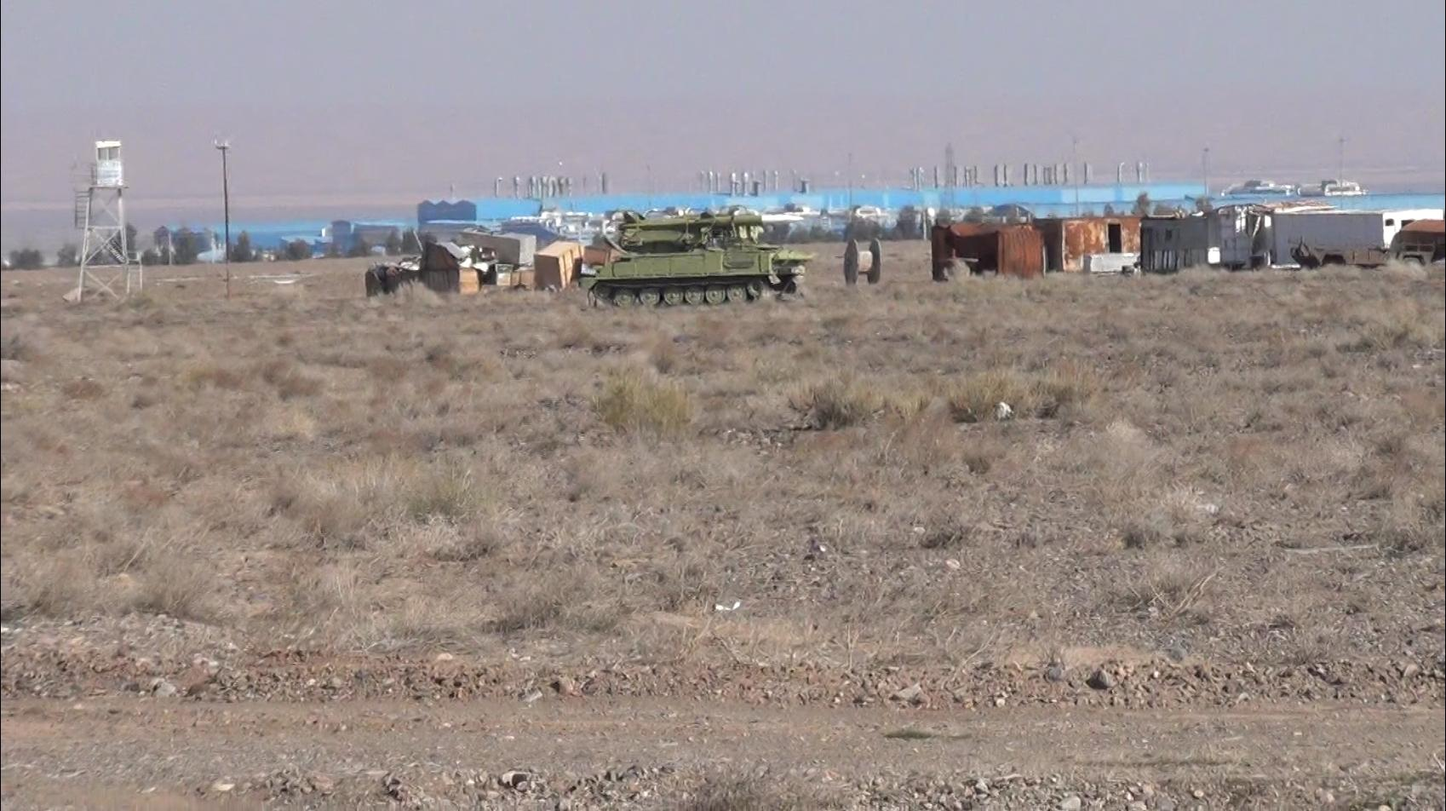armored_car: (578, 204, 823, 316)
